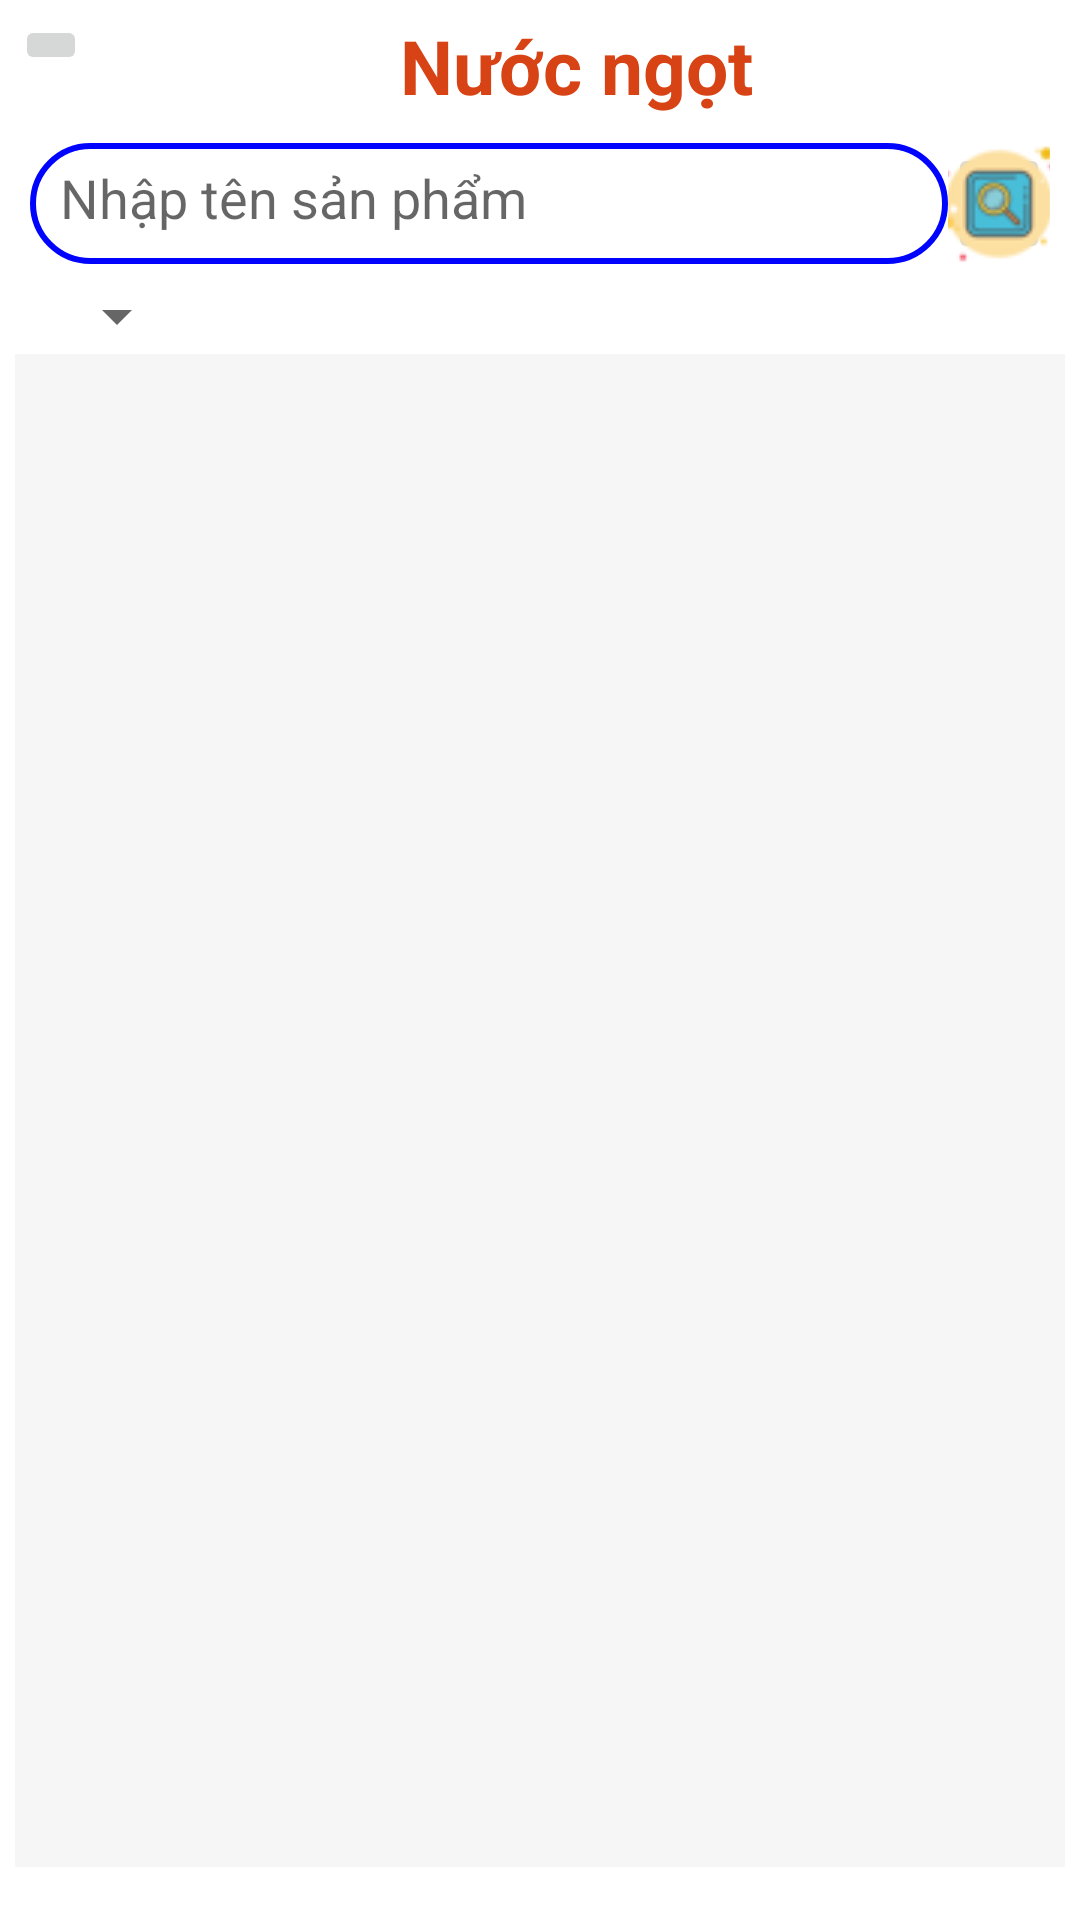

Point at icon controls on the screen. Image size 1080x1920, points as (x,y).
find: (999,204)
